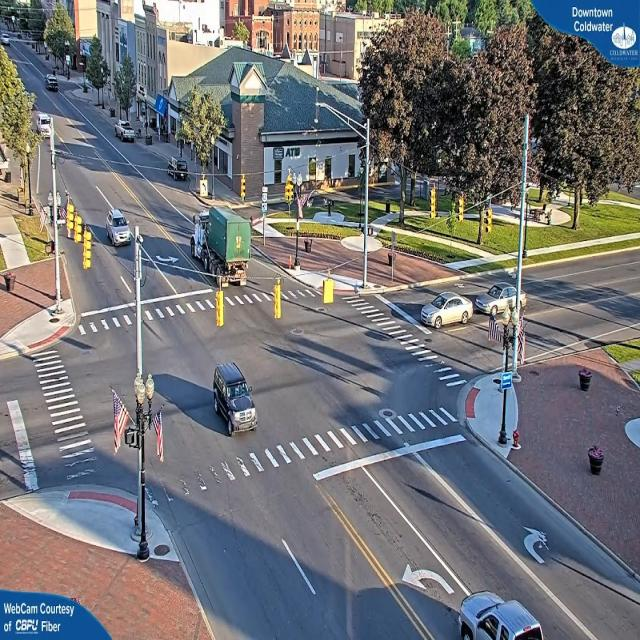car: (210, 364, 258, 438), (420, 296, 471, 330), (473, 285, 529, 315), (106, 210, 134, 248), (164, 157, 189, 180), (116, 123, 136, 143), (35, 114, 51, 139)
truck: (194, 204, 254, 291)
